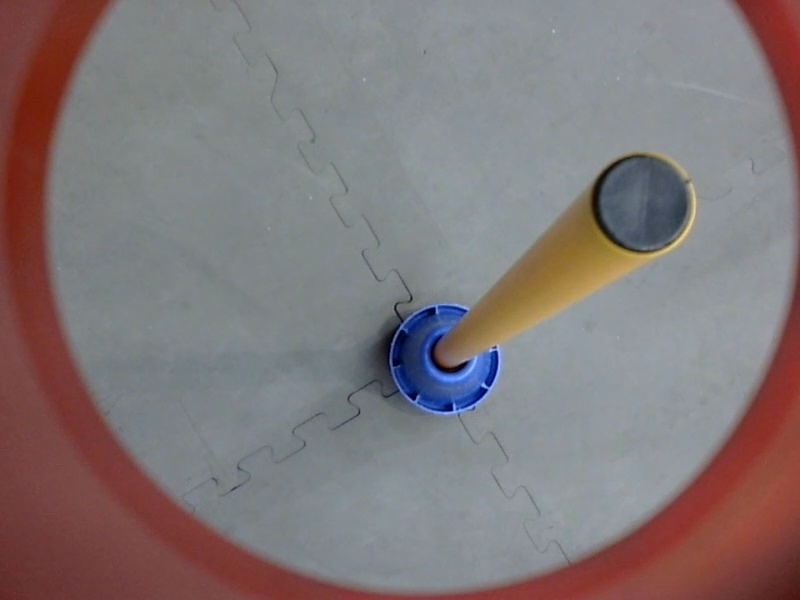tip: (587, 146, 700, 264)
